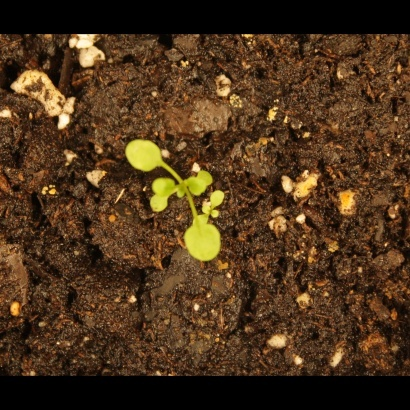leaf: (183, 216, 225, 265), (121, 136, 165, 172), (149, 175, 180, 200), (185, 172, 211, 199), (143, 194, 173, 217), (208, 185, 233, 210)
